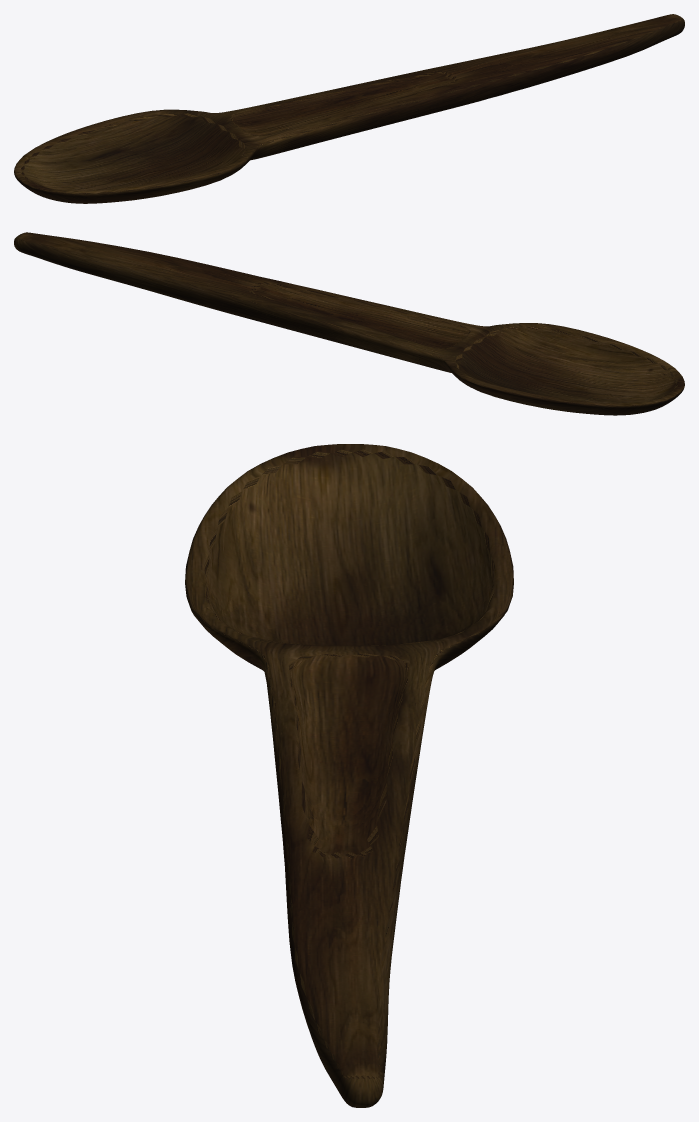
The model's file is HornSpoon2.fbx.
3 renders of one model, top to bottom at view 1: azimuth 30°, elevation 25°; view 2: azimuth 150°, elevation 25°; view 3: azimuth 270°, elevation 25°, orthographic. The views are drawn at different scales.
Parts seen in each view (by area): view 1: HornSpoon2; view 2: HornSpoon2; view 3: HornSpoon2.
Part boxes in pixels (x1,y1,x2,y2): HornSpoon2: [14, 14, 684, 203]; HornSpoon2: [14, 232, 684, 415]; HornSpoon2: [185, 444, 513, 1107].
Bounding box in the file's own units: 13.93 × 0.7286 × 3.01.
